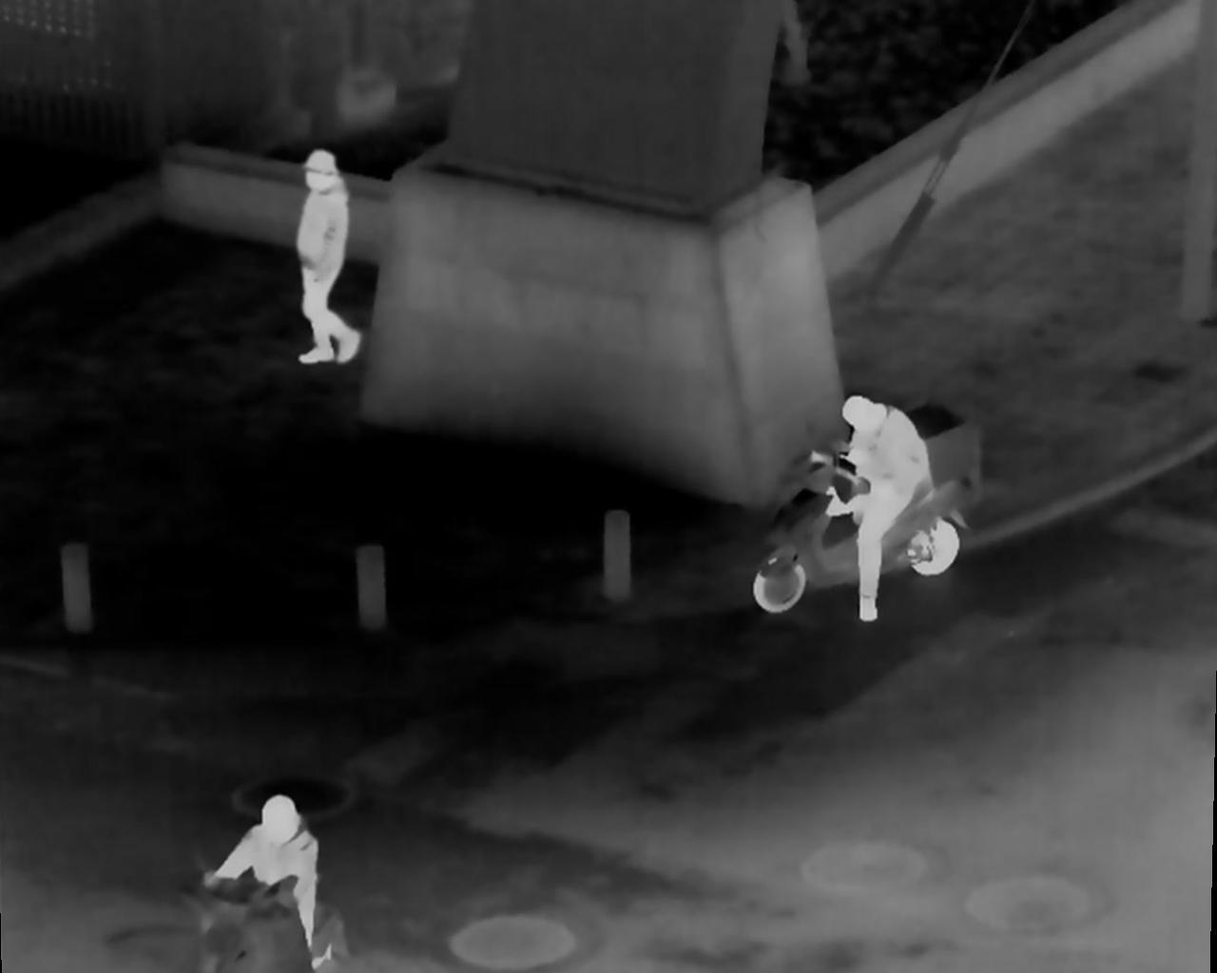person: (826, 401, 940, 614), (196, 792, 338, 962), (289, 148, 360, 365)
